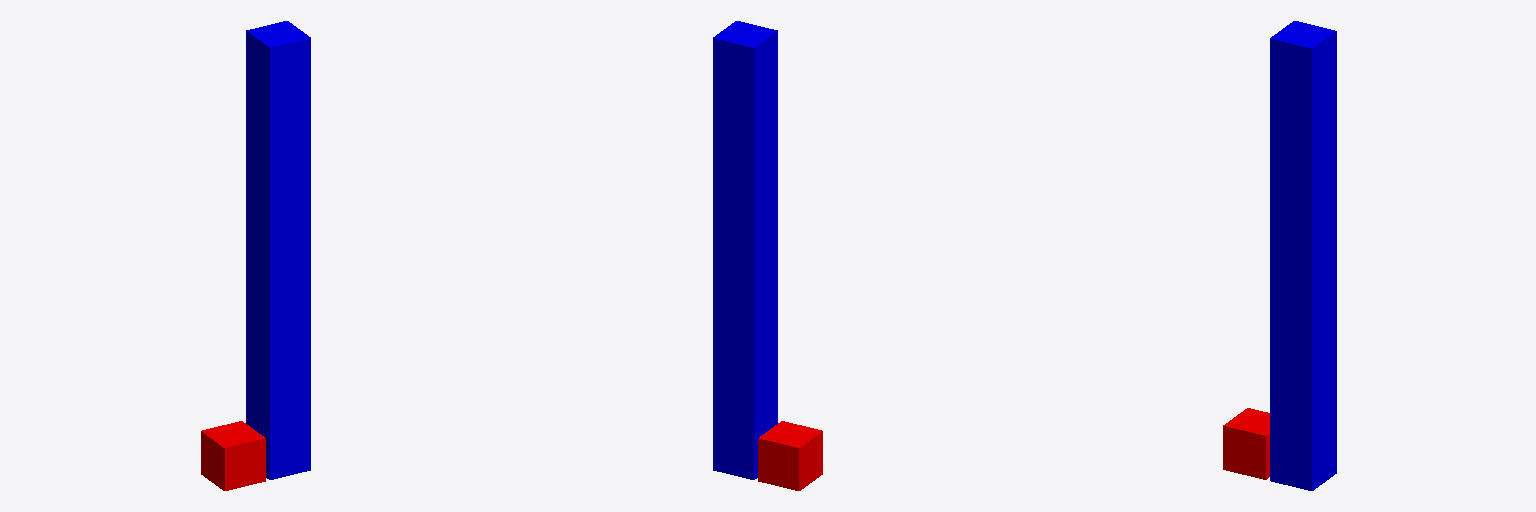
URDF robot description (test_pendulum):
<robot name="test_pendulum">

  <material name="red">
    <color rgba="1 0 0 1"/>
  </material>

  <material name="blue">
    <color rgba="0 0 1 1"/>
  </material>

  <link name="base">
    <visual>
      <geometry>
        <box size="0.1 0.1 0.1"/>
      </geometry>
      <origin rpy="0.0 0.0 0.0" xyz="0.0 0.0 0.0"/>
      <material name="red"/>
    </visual>
    <inertial>
      <mass value="0.0"/>
      <origin rpy="0.0 0.0 0.0" xyz="0.0 0.0 0.0"/>
      <inertia ixx="0.0" iyy="0.0" izz="0.0" iyz="0.0" ixz="0.0" ixy="0.0"/>
    </inertial>
  </link>

  <link name="arm">
    <visual>
      <geometry>
        <box size="0.1 0.1 1"/>
      </geometry>
      <origin xyz="0.1 0.0 0.45" rpy="0.0 0.0 0.0"/>
      <material name="blue"/>
    </visual>
    <inertial>
      <mass value="10.0"/>
      <origin xyz="0.1 0.0 0.45" rpy="0.0 0.0 0.0"/>
      <!-- Beware of the mass origin relative to the joint -->
      <inertia ixx="0.0" iyy="0.0" izz="0.0" iyz="0.0" ixz="0.0" ixy="0.0"/>
    </inertial>
  </link>

  <joint name="joint1" type="continuous">
    <parent link="base"/>
    <child link="arm"/>
    <origin xyz="0.01 0 0" rpy="0 0 0" />
    <axis xyz="1 0 0" />
  </joint>

</robot>

--- Render facts (derived) ---
The picture shows the robot from 3 angles, left to right: view 1: azimuth 30°, elevation 25°; view 2: azimuth 150°, elevation 25°; view 3: azimuth 330°, elevation 25°; orthographic projection.
Model test_pendulum with 2 links and 1 joints (1 continuous), rooted at base, posed every joint at zero.
Links seen in each view (by area): view 1: arm, base; view 2: arm, base; view 3: arm, base.
Link boxes in pixels (left/top/right/bottom): arm: left=246, top=21, right=310, bottom=479; base: left=201, top=421, right=265, bottom=490; arm: left=713, top=21, right=777, bottom=479; base: left=758, top=421, right=822, bottom=490; arm: left=1270, top=21, right=1336, bottom=490; base: left=1223, top=408, right=1269, bottom=479.
Size in the robot's own frame: 0.21 by 0.1 by 1 metres.
Geometry: primitives only (box / cylinder / sphere), no mesh files.